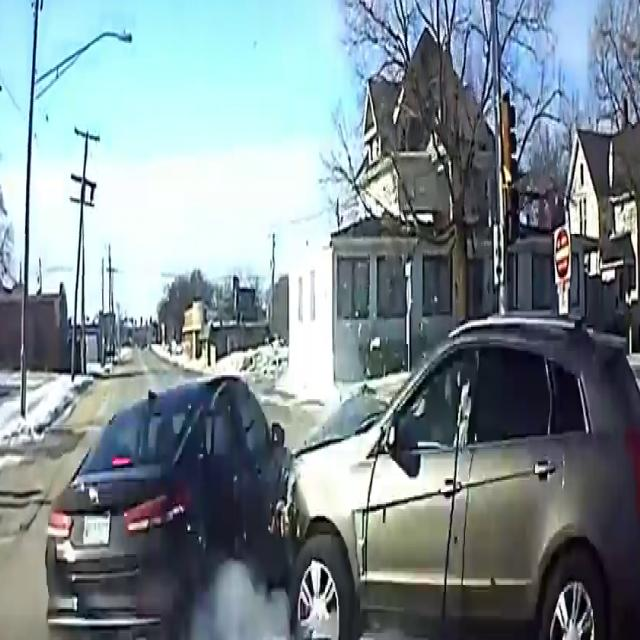accident: (118, 335, 454, 640)
